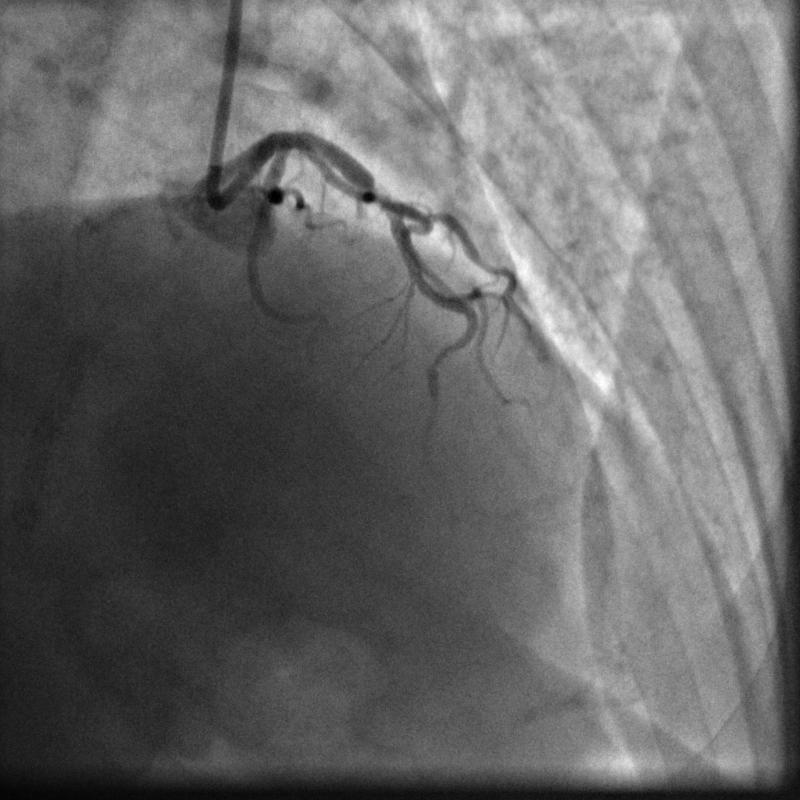Stenosis: (374, 185, 389, 215)
